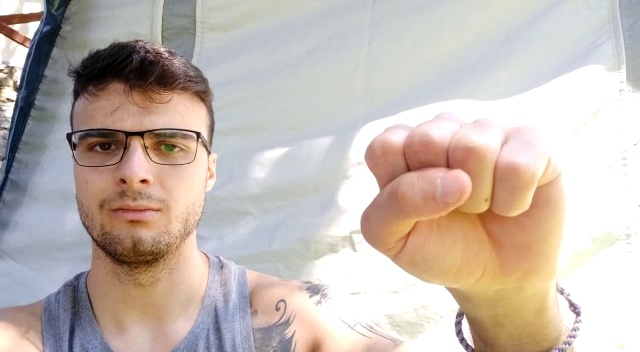Fist: (358, 110, 561, 285)
